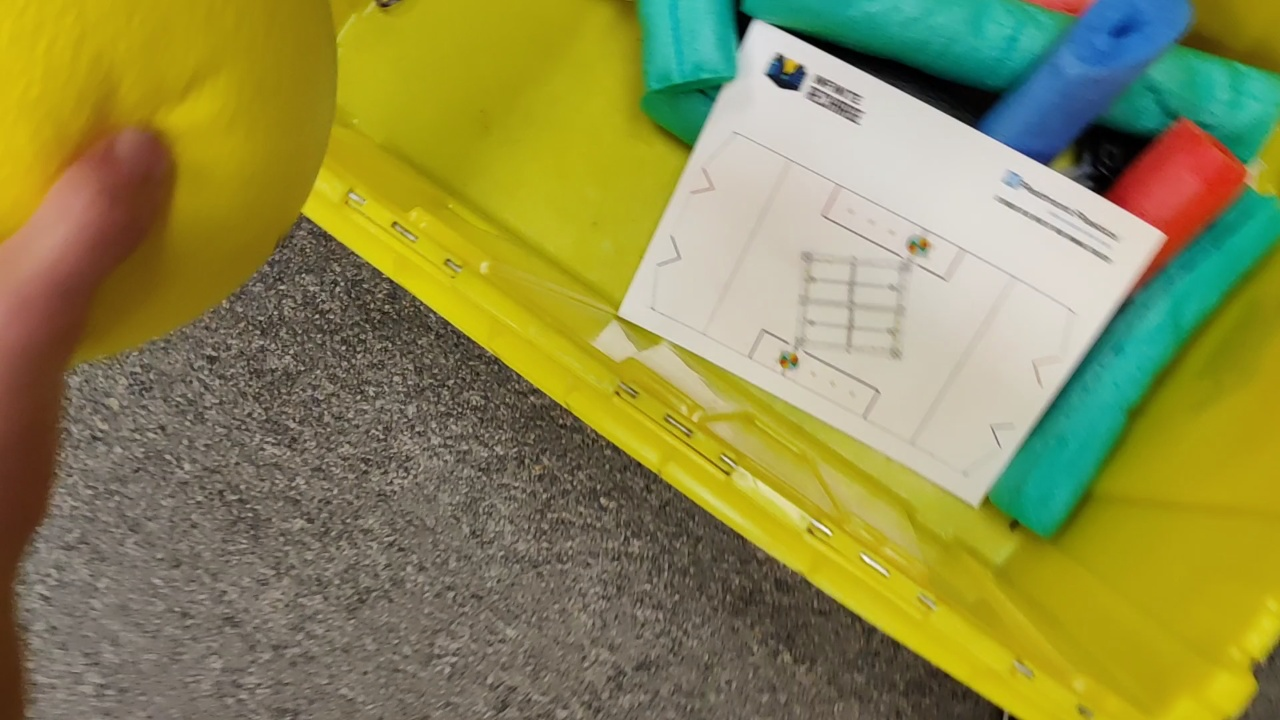Ball: (1, 1, 340, 381)
